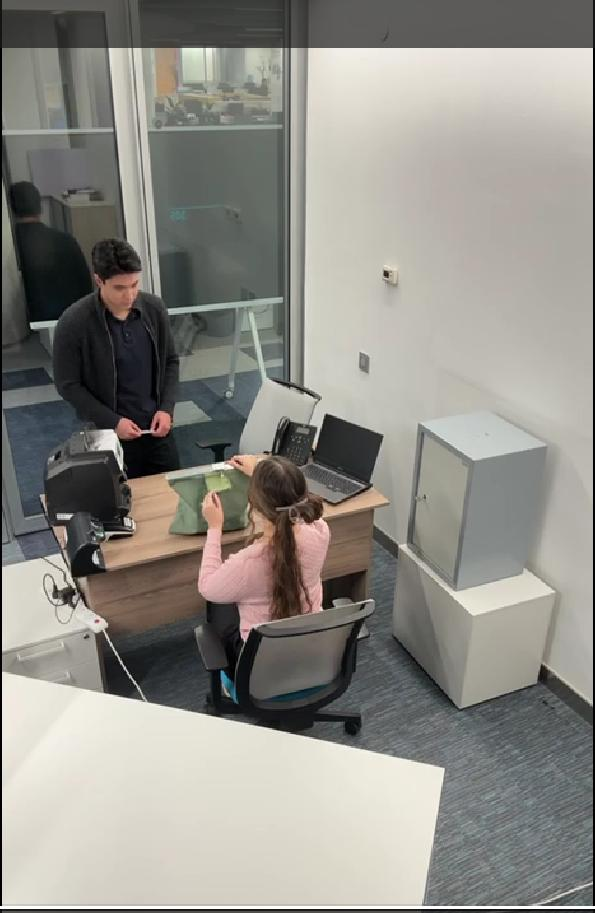cash-in-transit bag: (162, 464, 271, 535)
counter: (46, 426, 133, 530)
uv_lamp: (54, 506, 127, 584)
